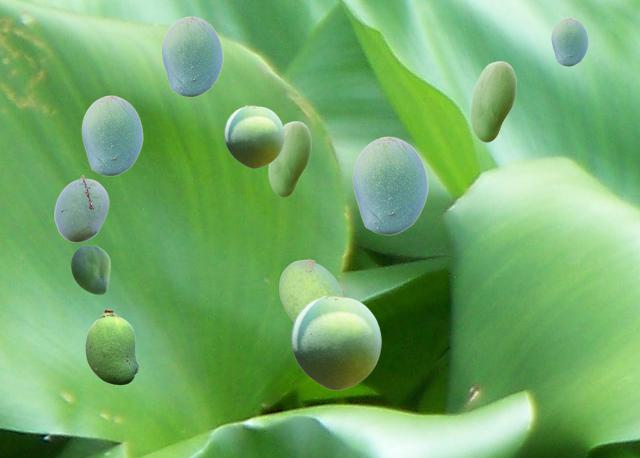green_mango: (291, 295, 380, 389), (352, 136, 427, 234), (161, 16, 222, 96), (81, 95, 142, 175), (279, 259, 344, 321), (85, 309, 138, 384), (224, 105, 283, 167), (470, 61, 515, 141), (54, 175, 108, 241), (268, 121, 310, 196), (71, 245, 109, 293), (551, 17, 587, 65)
